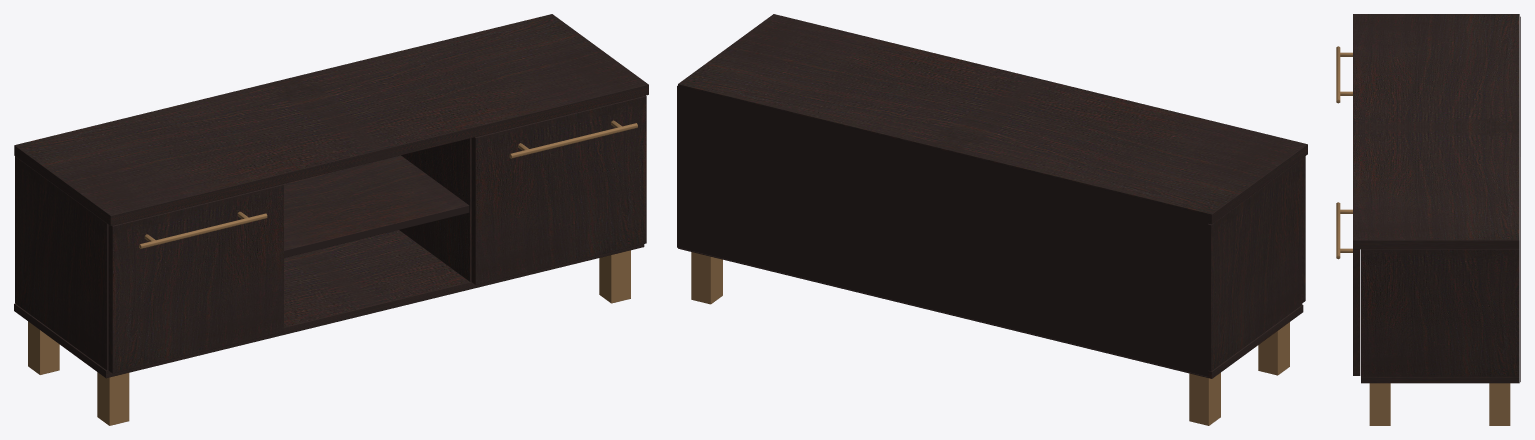
File: tv_stand.glb
3 views of the same model, side by side, from view 1: azimuth 30°, elevation 25°; view 2: azimuth 150°, elevation 25°; view 3: azimuth 270°, elevation 25° (orthographic). The views are drawn at different scales.
Parts seen in each view (by area): view 1: tvStand; view 2: tvStand; view 3: tvStand.
Part boxes in pixels (x1,y1,x2,y2): tvStand: (14, 14, 648, 425); tvStand: (677, 14, 1307, 425); tvStand: (1336, 14, 1520, 425).
Size of the model in its own units: 1.35 by 0.526 by 0.465.
4 materials, 4 textured.
